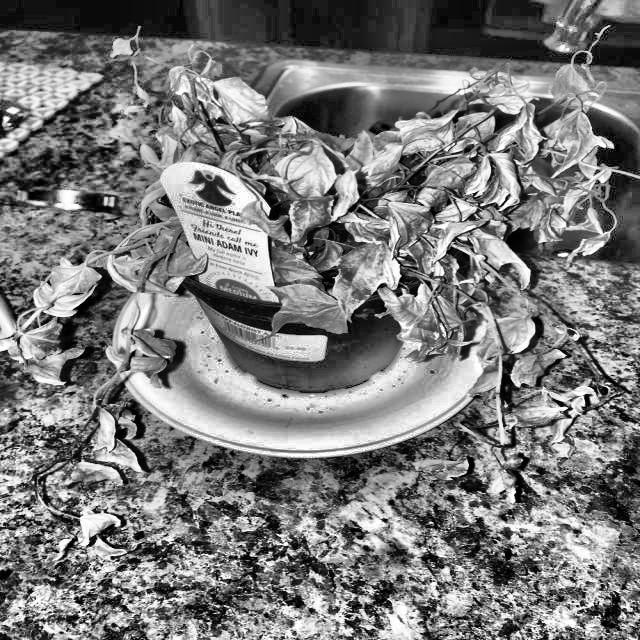plants: (0, 85, 629, 558)
